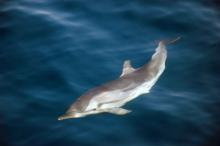fish: (57, 35, 182, 121)
